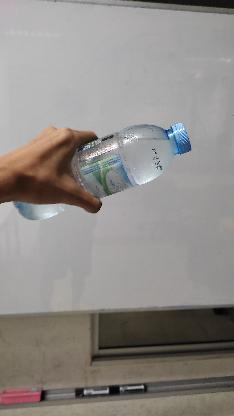Plastic Bottle: (15, 120, 195, 226)
